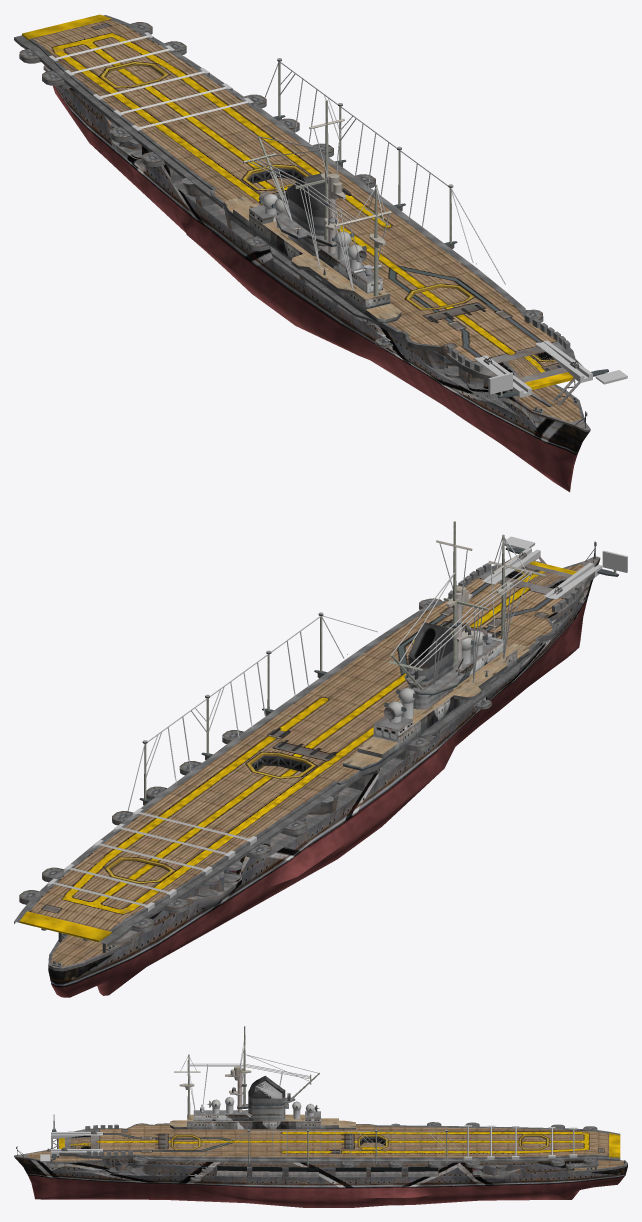
The model's file is aircraft carrier 2.fbx.
3 renders of one model, top to bottom at view 1: azimuth 30°, elevation 25°; view 2: azimuth 150°, elevation 25°; view 3: azimuth 270°, elevation 25°, orthographic. The views are drawn at different scales.
Visible parts, largest first — view 1: Aircraft2; view 2: Aircraft2; view 3: Aircraft2.
Boxes of the visible parts, bbox=[...] form: Aircraft2: bbox=[14, 14, 627, 492]; Aircraft2: bbox=[14, 521, 627, 997]; Aircraft2: bbox=[14, 1026, 627, 1207].
Bounding box in the file's own units: 48.17 × 70.94 × 252.
